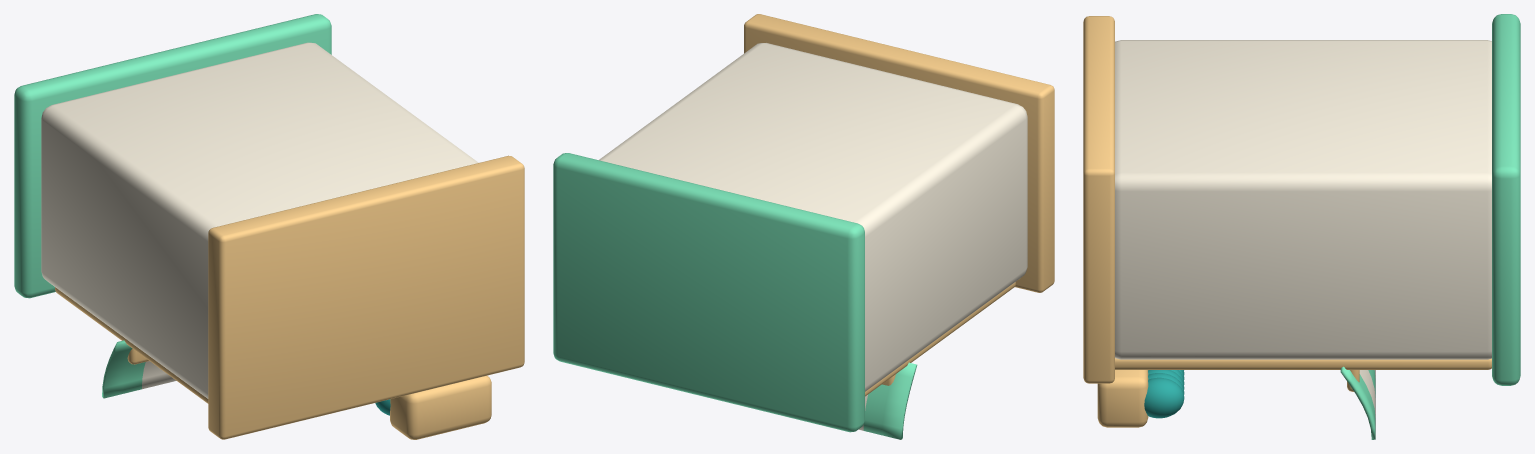
File: RunnerTownhouse0.fbx
3 views of the same model, side by side, from view 1: azimuth 30°, elevation 25°; view 2: azimuth 150°, elevation 25°; view 3: azimuth 270°, elevation 25° (orthographic). The views are drawn at different scales.
Parts seen in each view (by area): view 1: RunnerTownhouse0; view 2: RunnerTownhouse0; view 3: RunnerTownhouse0.
Part boxes in pixels (x1,y1,x2,y2): RunnerTownhouse0: [14, 14, 524, 439]; RunnerTownhouse0: [553, 14, 1054, 439]; RunnerTownhouse0: [1083, 14, 1520, 439].
Size of the model in its own units: 2.39 by 1.97 by 2.77.
